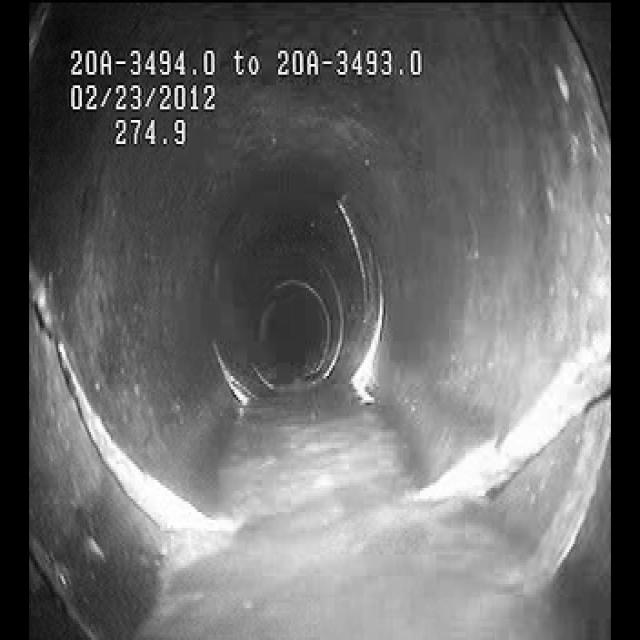Fracture: (34, 254, 202, 536), (406, 324, 600, 504)
